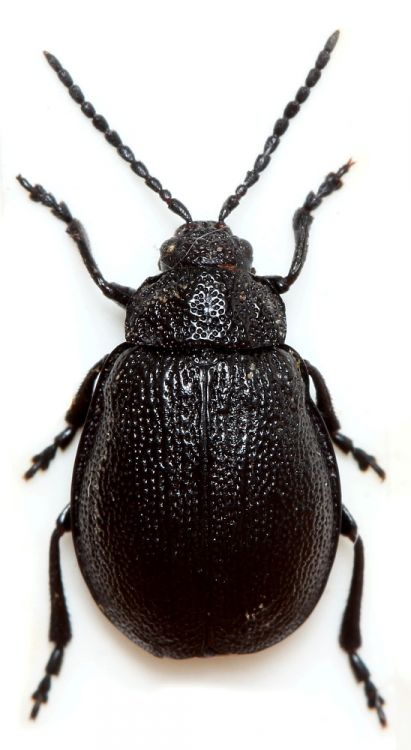Galeruca_tanaceti: (6, 28, 393, 739)
